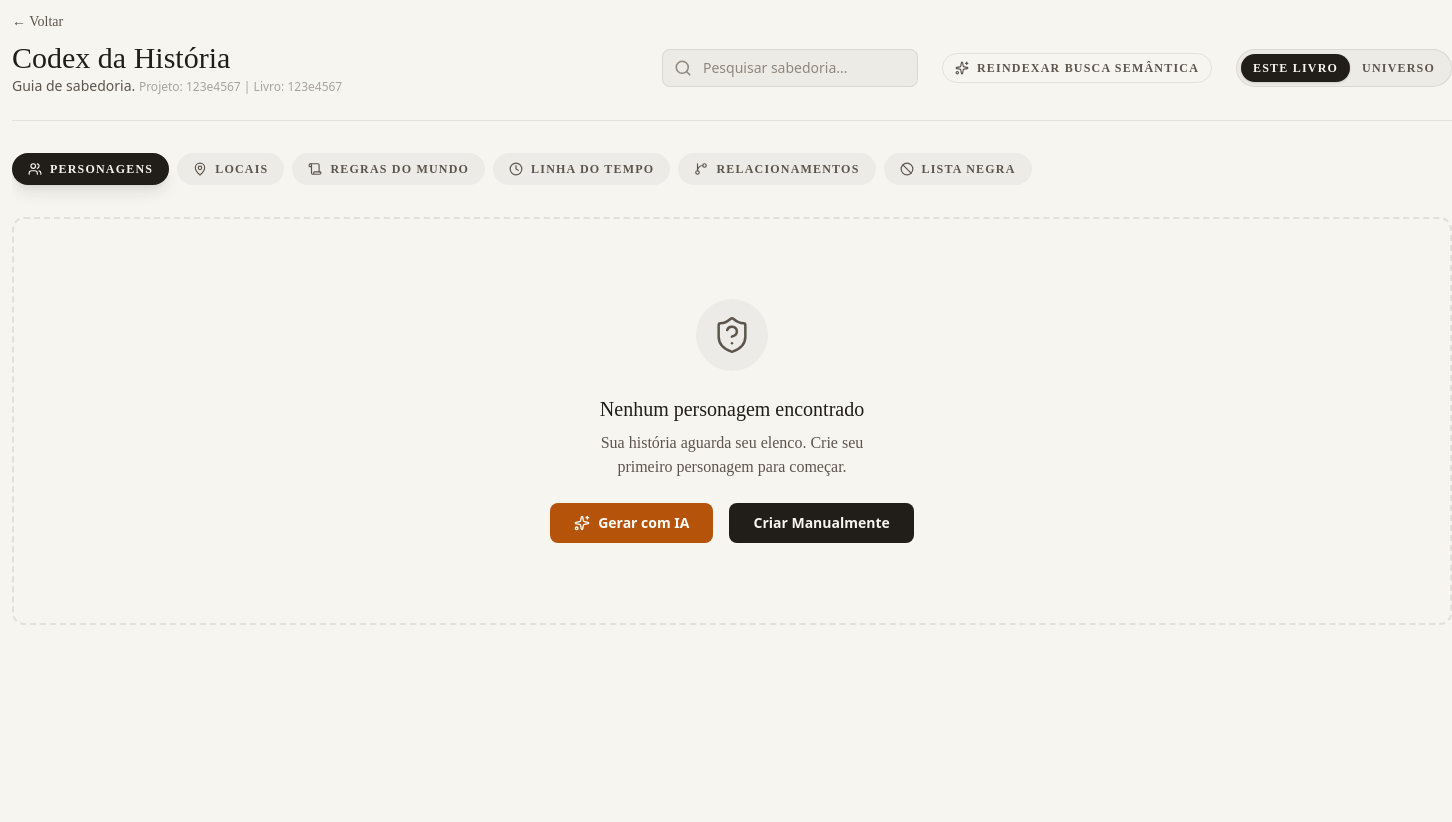
it: CodexDashboard Unit › deve reindexar o índice semântico e mostrar um toast de sucesso com a contagem
Click the button "Reindexar Busca Semântica": click(1077, 68) x1=942 y1=53 x2=1212 y2=83
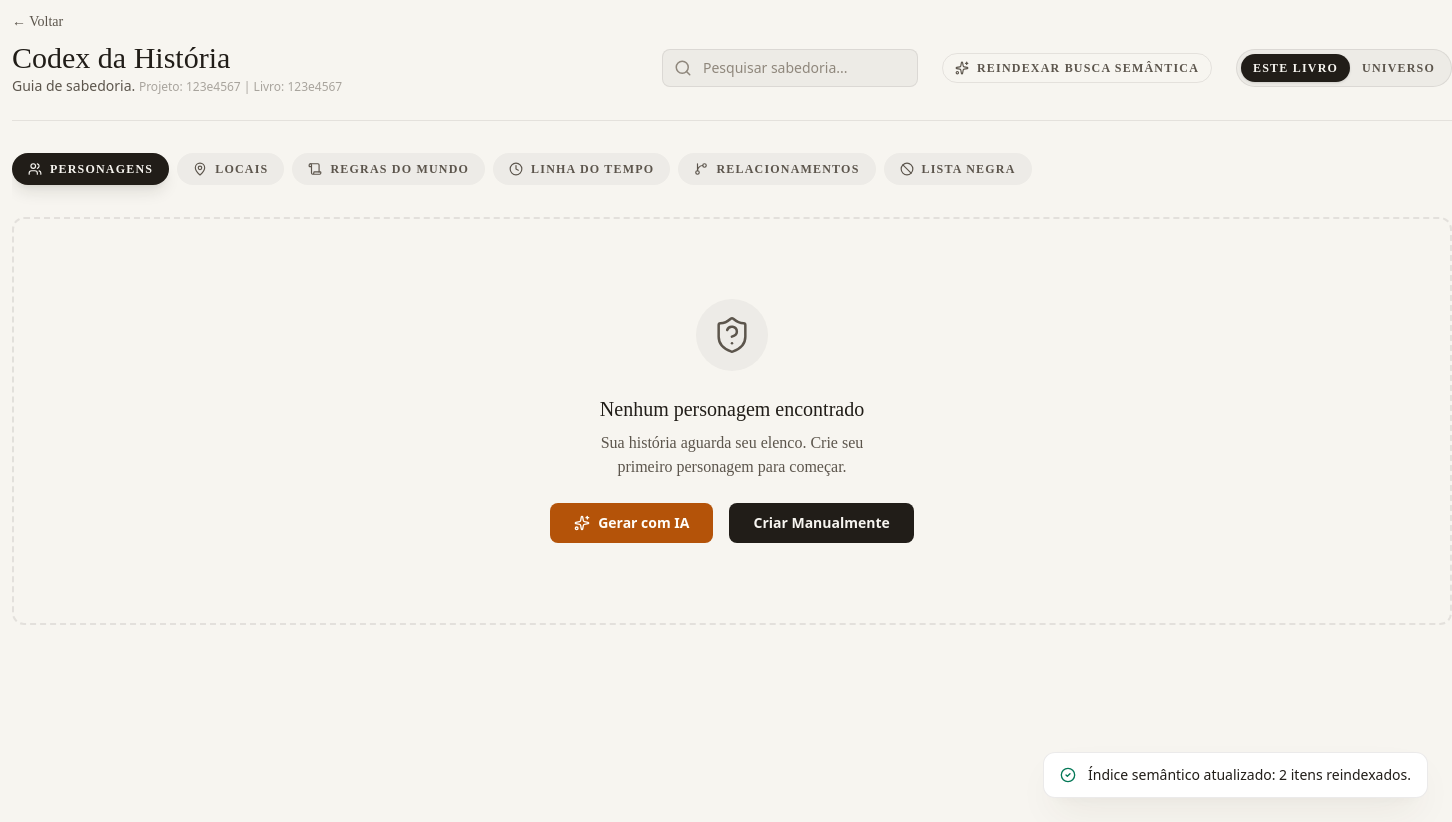
Check: the text "Índice semântico atualizado: 2 itens reindexados." is shown, box x1=1088 y1=765 x2=1411 y2=785
